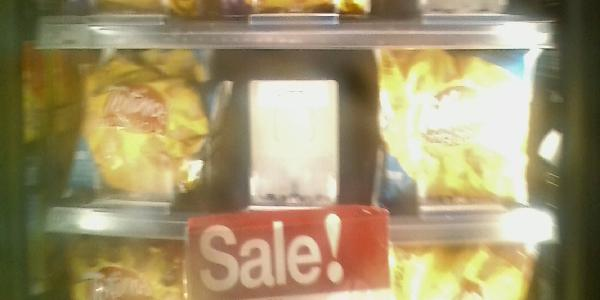icecream: (370, 44, 531, 211), (72, 49, 209, 221)
